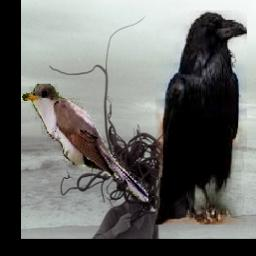Crow: (155, 11, 247, 226)
Cuckoo: (23, 84, 149, 202)
